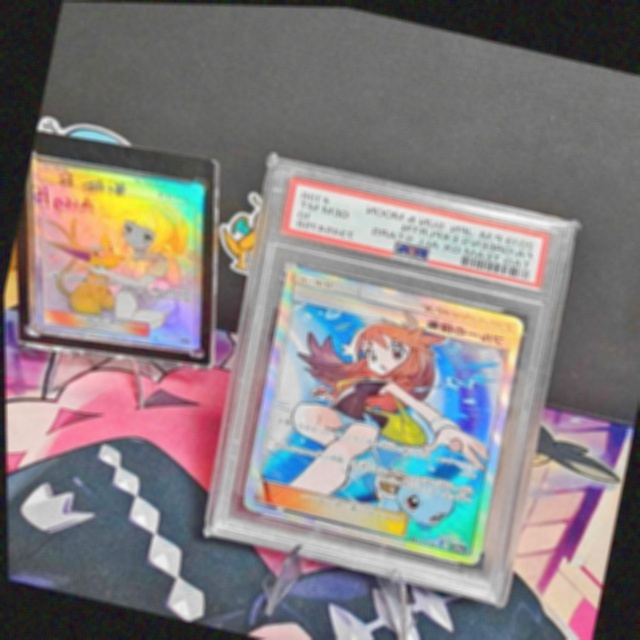card: (240, 263, 522, 562), (30, 154, 203, 348)
